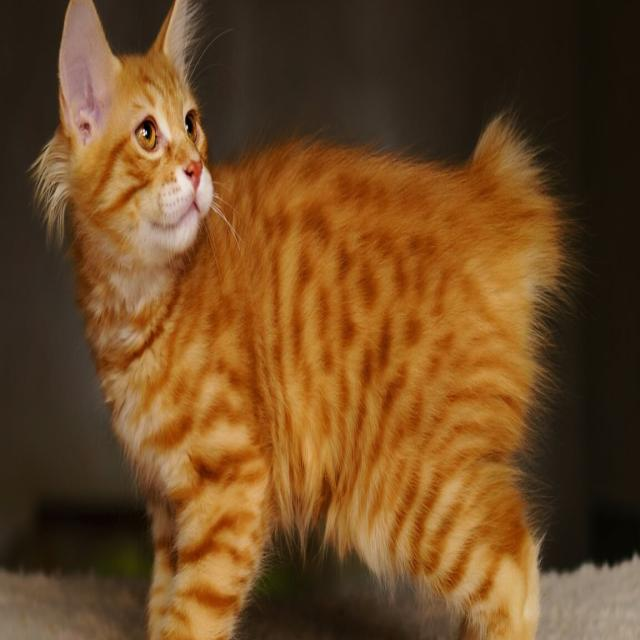American Bobtail: (39, 0, 575, 640)
